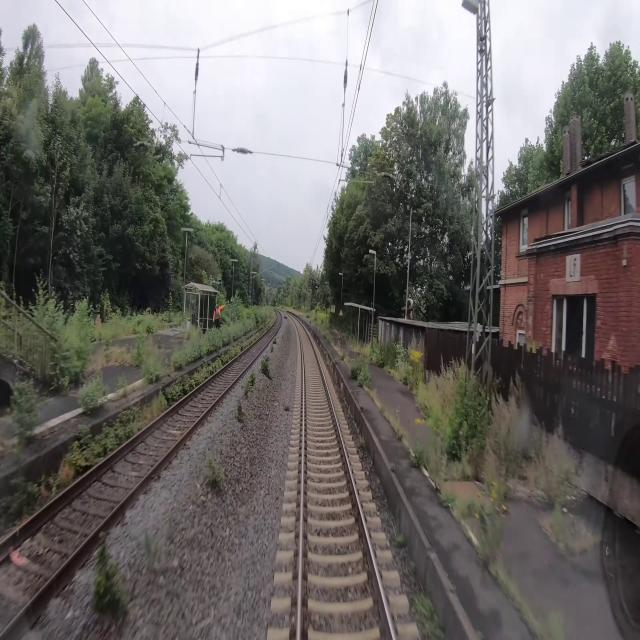Plant: (92, 531, 136, 628), (207, 457, 227, 492), (241, 368, 256, 399), (260, 354, 272, 380), (234, 402, 248, 424), (270, 337, 277, 353)
